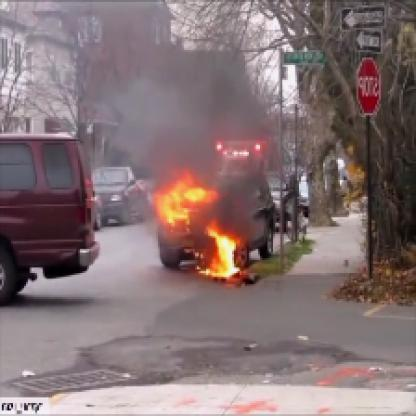Fire: (160, 160, 271, 284)
